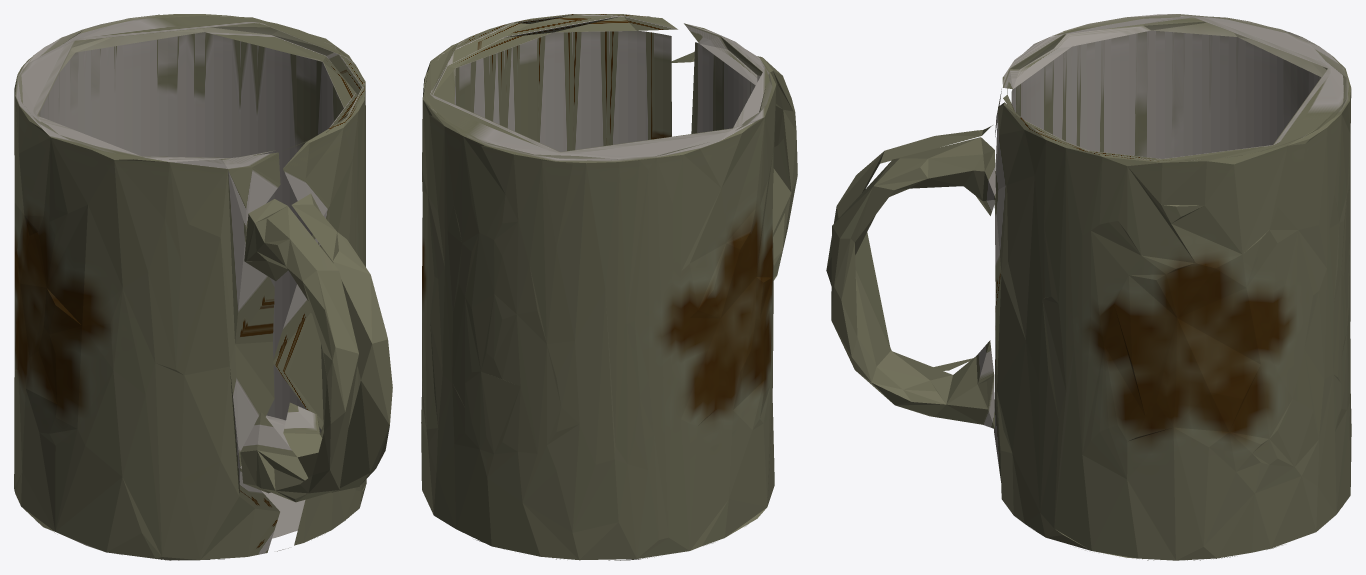
The model's file is kitchenware_mug_c01.glb.
3 renders of one model, left to right at view 1: azimuth 30°, elevation 25°; view 2: azimuth 150°, elevation 25°; view 3: azimuth 270°, elevation 25°, orthographic.
Parts seen in each view (by area): view 1: geometry_0; view 2: geometry_0; view 3: geometry_0.
Boxes of the visible parts, box(x1,y1,x2,y2) form: geometry_0: box(14, 14, 392, 560); geometry_0: box(421, 14, 797, 560); geometry_0: box(826, 14, 1351, 560).
Size of the model in its own units: 0.2822 by 0.3539 by 0.42.
Materials: 1 (1 with a texture image).
